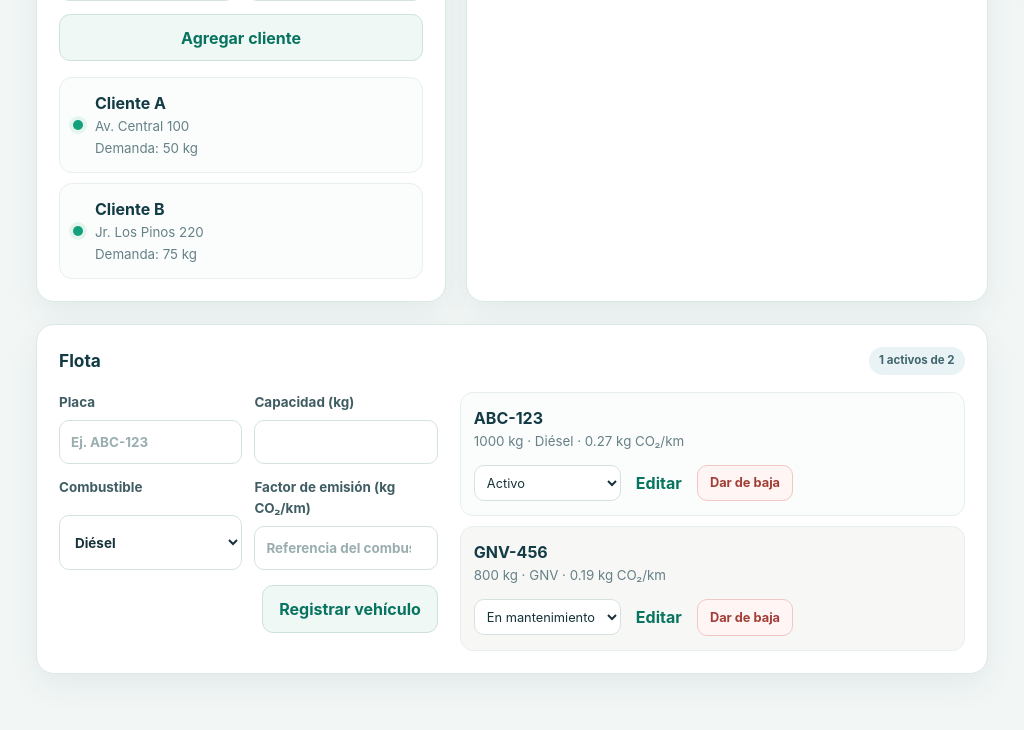
Test: Gestión de flota › sin factor de emisión envía null para usar el de referencia
(page scrolled)
Type "XYZ-789" into the field labelled "Placa". click: (151, 442)
box: [59, 420, 242, 464]
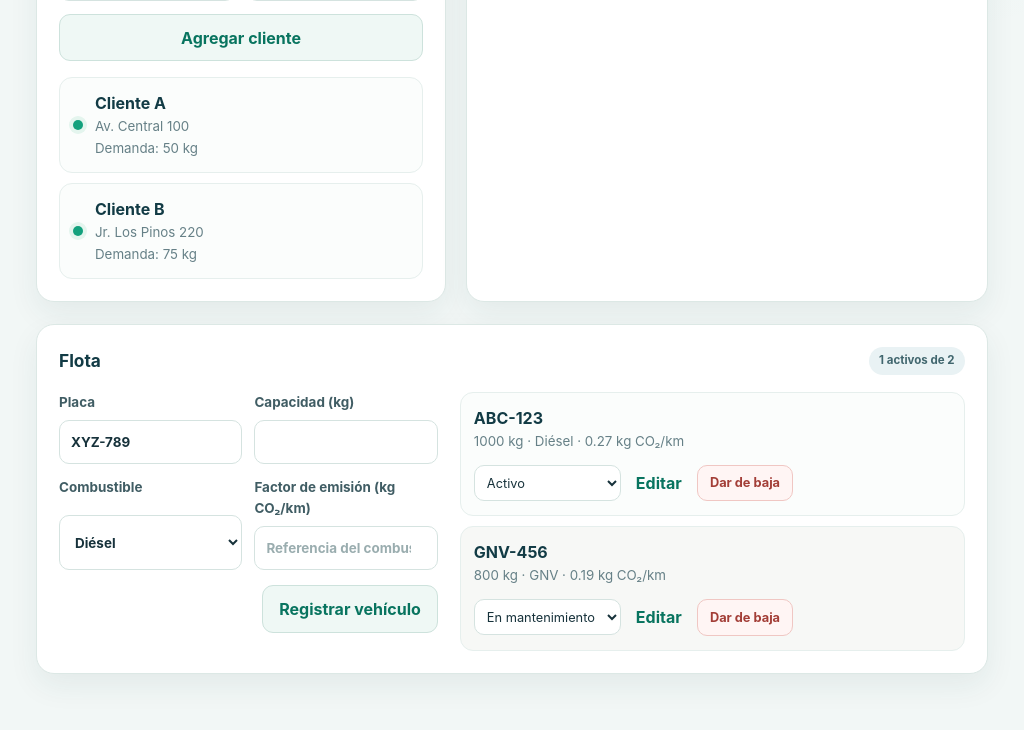
Type "900" into the number field labelled "Capacidad (kg)". click: (346, 442)
box: [254, 420, 438, 464]
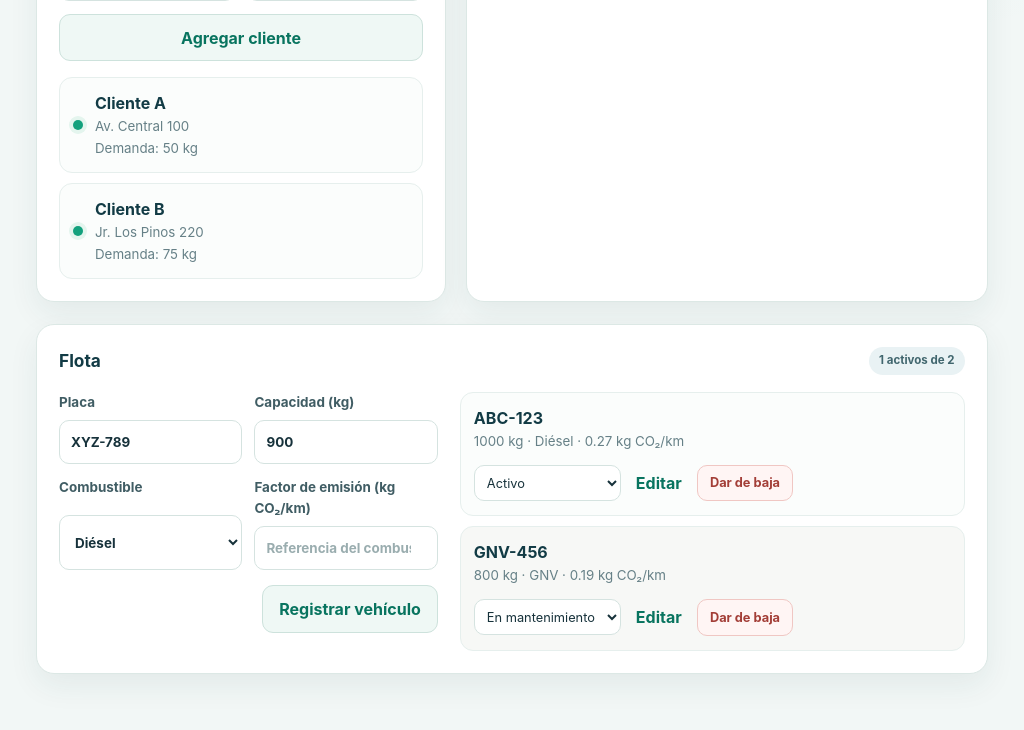
Click the button "Registrar vehículo". click: (350, 609)
box: [262, 585, 438, 633]
(page scrolled)
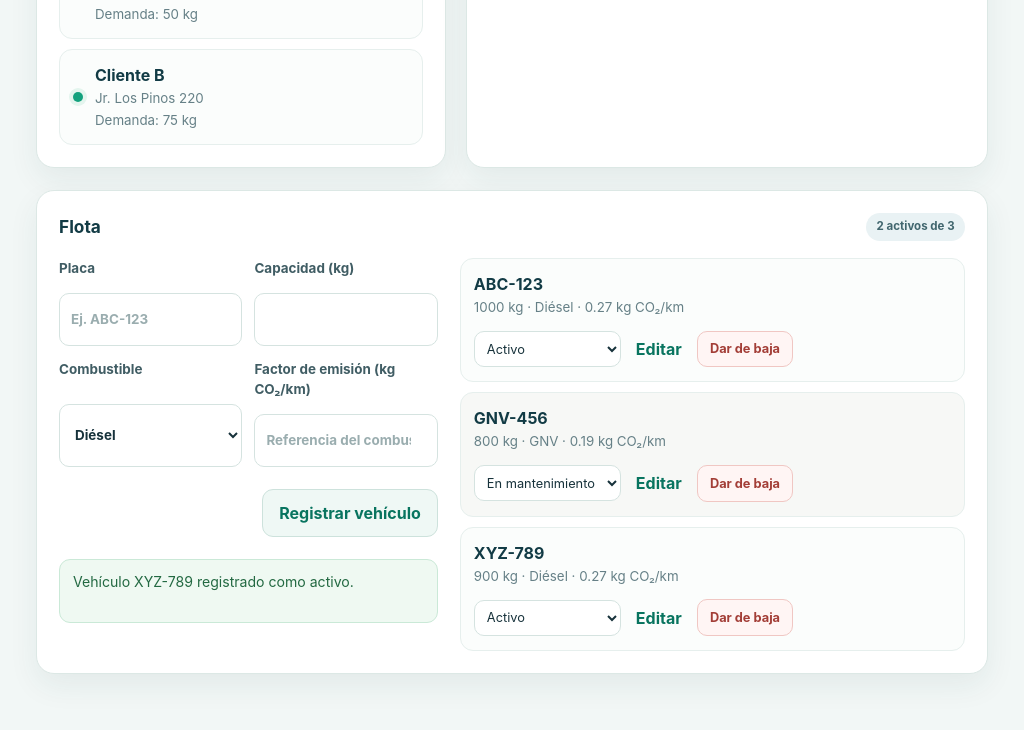
Now the text "Vehículo XYZ-789 registrado como activo." is shown, box [59, 559, 438, 623]
